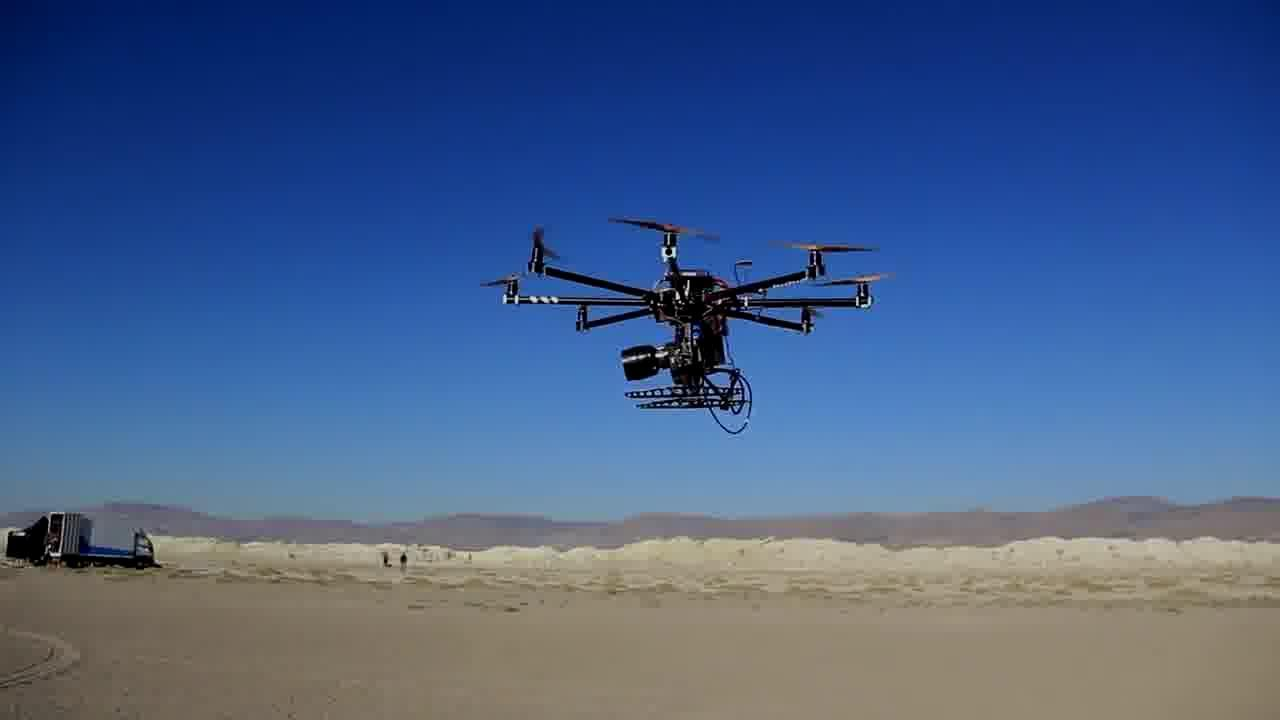drone: (477, 212, 891, 412)
